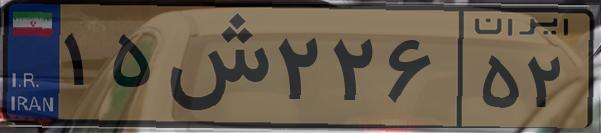1: (57, 26, 110, 100)
2: (270, 28, 330, 110), (330, 28, 385, 110), (525, 38, 570, 115)
5: (475, 38, 525, 113), (110, 28, 158, 98)
6: (385, 28, 445, 110)
ش: (158, 12, 270, 120)
